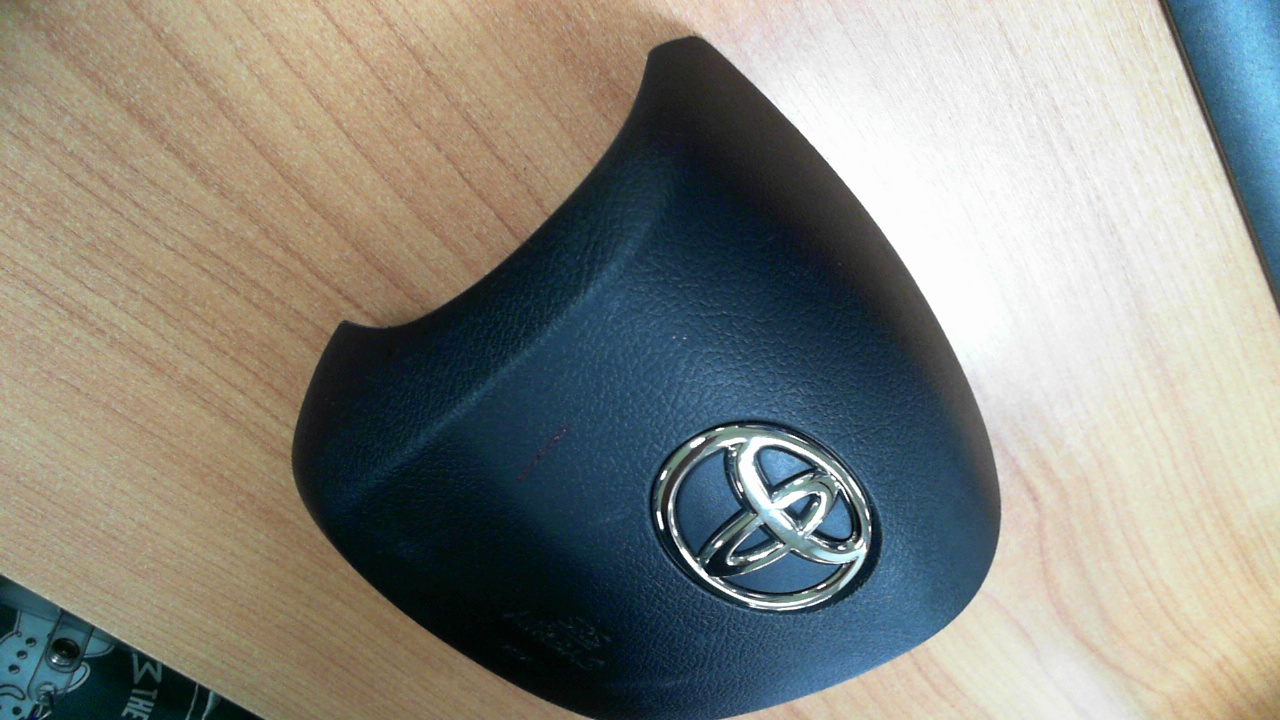Airbag: (290, 34, 1002, 719)
Toyota: (656, 424, 872, 611)
